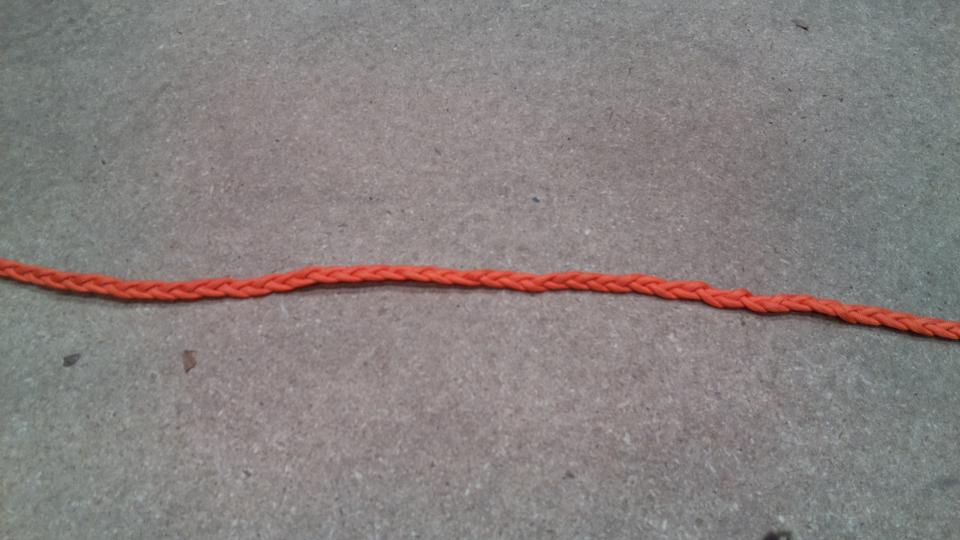rope: (1, 256, 960, 348)
